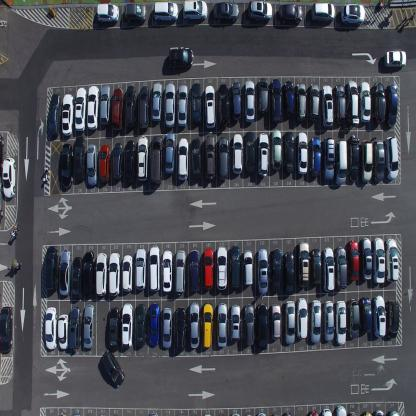car: (101, 348, 125, 388), (44, 244, 58, 292), (150, 134, 163, 185), (0, 305, 13, 355), (297, 240, 310, 289), (334, 245, 348, 290), (320, 83, 334, 128), (255, 303, 268, 351), (82, 250, 95, 298), (188, 301, 201, 348), (215, 245, 228, 292), (322, 245, 335, 292), (60, 143, 73, 190), (73, 135, 86, 182), (2, 156, 16, 199), (340, 2, 365, 26), (147, 303, 160, 349), (190, 136, 203, 182), (283, 299, 296, 345), (372, 237, 385, 283), (108, 252, 121, 298), (95, 251, 108, 297), (74, 86, 87, 132), (87, 85, 100, 131), (153, 0, 179, 23), (44, 305, 57, 350), (48, 92, 61, 137), (373, 293, 386, 338), (148, 245, 160, 293), (121, 302, 133, 350), (59, 248, 71, 296), (69, 304, 81, 352), (310, 0, 335, 23), (134, 246, 147, 290), (385, 238, 398, 282), (243, 130, 256, 174), (385, 135, 398, 179), (204, 133, 216, 180), (270, 247, 282, 294), (136, 135, 148, 182), (61, 93, 74, 136), (360, 139, 373, 182), (175, 307, 187, 353), (229, 245, 241, 291), (164, 82, 176, 128), (309, 298, 321, 344), (335, 140, 347, 186), (309, 136, 322, 178), (372, 82, 385, 124), (277, 3, 303, 24), (247, 0, 273, 21), (213, 1, 239, 22), (182, 0, 208, 21), (164, 130, 176, 175), (216, 302, 228, 347), (188, 248, 200, 293), (71, 255, 83, 300), (138, 84, 150, 129), (257, 132, 269, 177), (323, 136, 335, 181), (270, 78, 282, 123), (167, 48, 194, 68), (257, 247, 268, 296), (202, 246, 214, 290), (190, 82, 202, 126), (135, 304, 147, 348), (348, 238, 360, 282), (109, 304, 120, 352), (86, 142, 98, 186), (270, 127, 282, 171), (283, 130, 295, 174), (296, 131, 308, 175), (386, 83, 398, 127), (386, 299, 399, 339), (243, 302, 255, 345), (296, 297, 308, 340), (359, 81, 371, 124), (111, 141, 124, 180), (202, 301, 213, 347), (347, 80, 358, 126), (124, 2, 147, 24), (98, 142, 110, 184), (348, 140, 360, 182), (95, 2, 119, 23), (175, 249, 186, 294), (218, 83, 229, 128), (204, 84, 215, 129), (218, 135, 229, 180), (283, 251, 294, 296), (361, 236, 372, 281), (83, 304, 94, 349), (112, 86, 123, 131), (335, 300, 346, 345), (244, 78, 255, 123), (99, 84, 111, 125), (322, 300, 334, 341), (347, 298, 359, 339), (231, 133, 243, 174), (177, 137, 188, 181), (161, 306, 172, 350), (229, 303, 241, 343), (125, 84, 136, 127), (124, 139, 135, 182), (374, 139, 385, 182), (310, 247, 322, 286), (177, 83, 188, 125), (334, 82, 345, 124), (162, 248, 172, 294), (57, 312, 69, 350), (257, 77, 269, 115), (308, 82, 319, 123), (295, 81, 306, 122), (241, 250, 253, 286), (122, 253, 133, 292), (361, 295, 372, 334), (270, 303, 281, 341), (384, 49, 406, 68), (283, 80, 294, 118), (231, 80, 241, 121), (152, 82, 162, 123), (0, 134, 4, 175), (334, 404, 347, 415), (0, 180, 3, 223), (373, 408, 386, 415), (320, 408, 333, 415), (388, 410, 400, 416), (307, 410, 319, 416), (347, 409, 357, 415), (361, 410, 372, 415)
